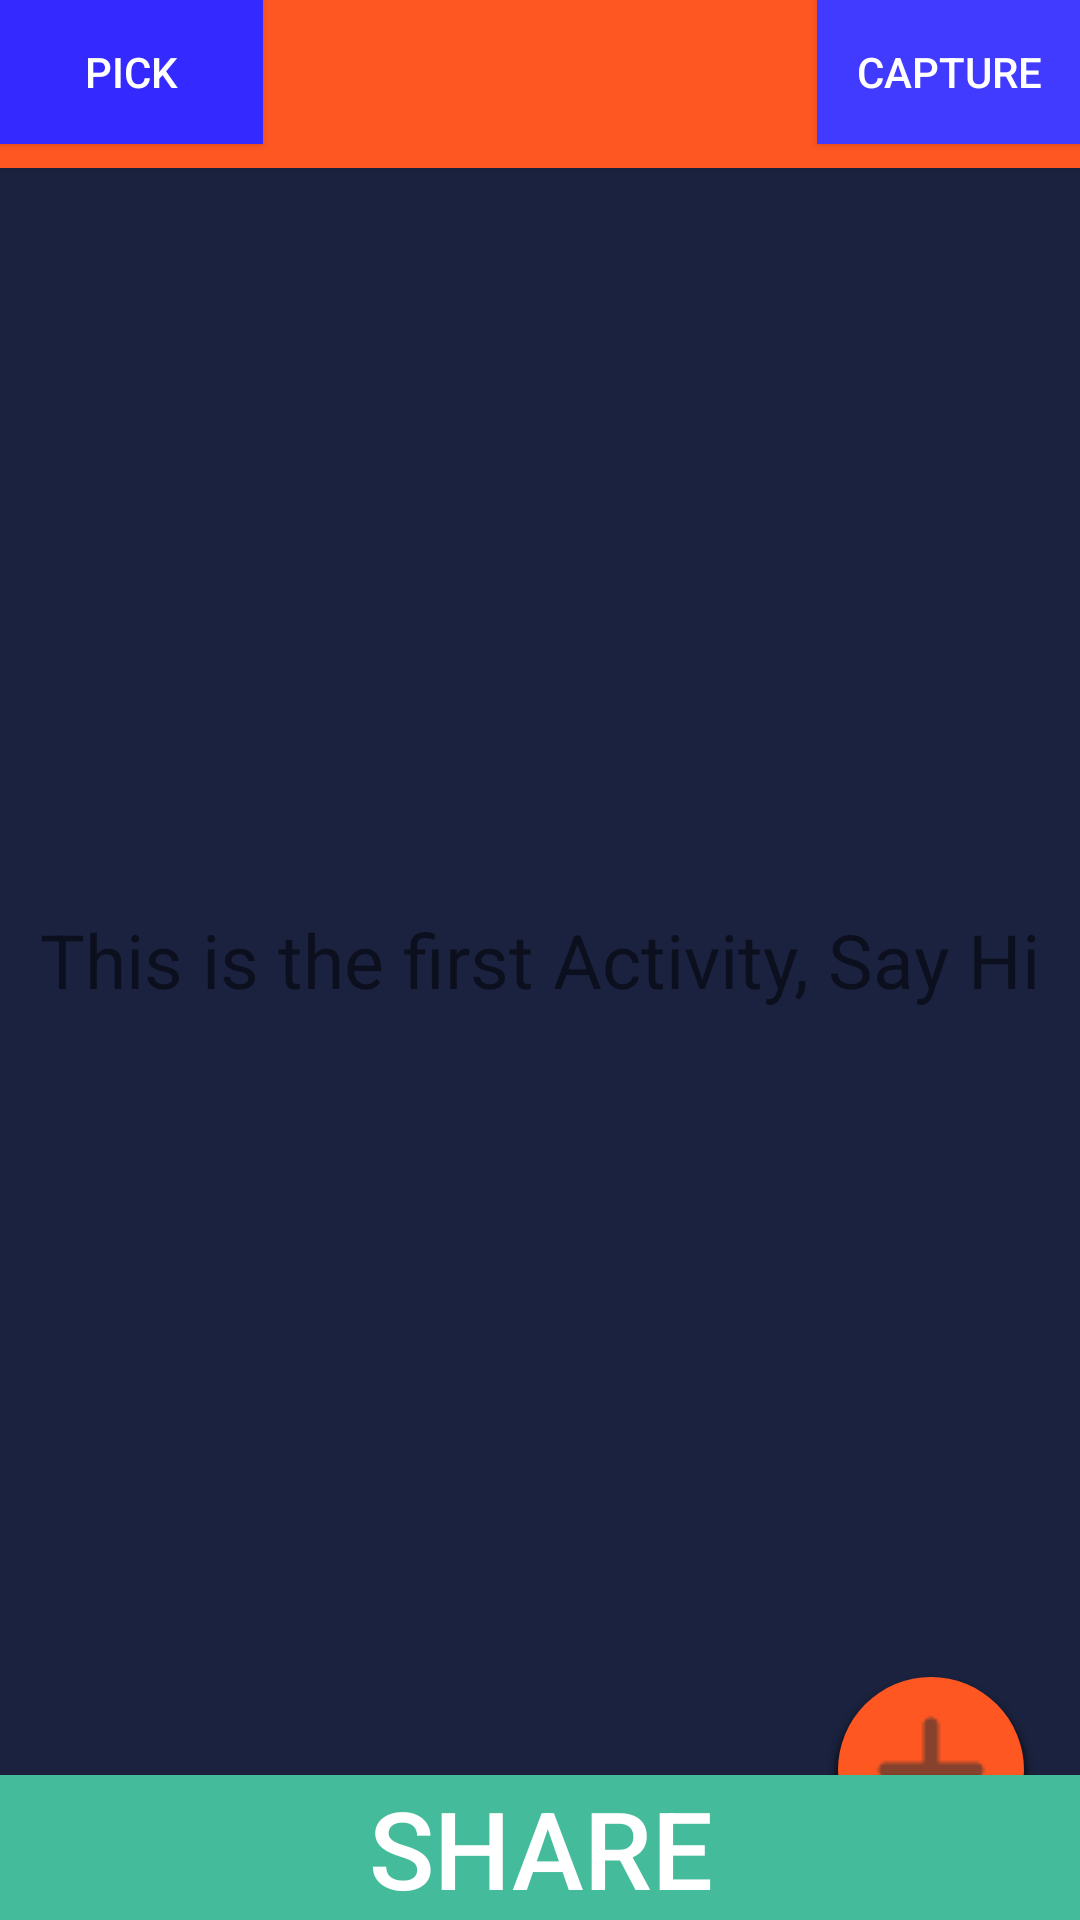

Point at icon controls on the screen. Image size 1080x1920, points as (x=x, y=y).
action: (x=931, y=1770)
